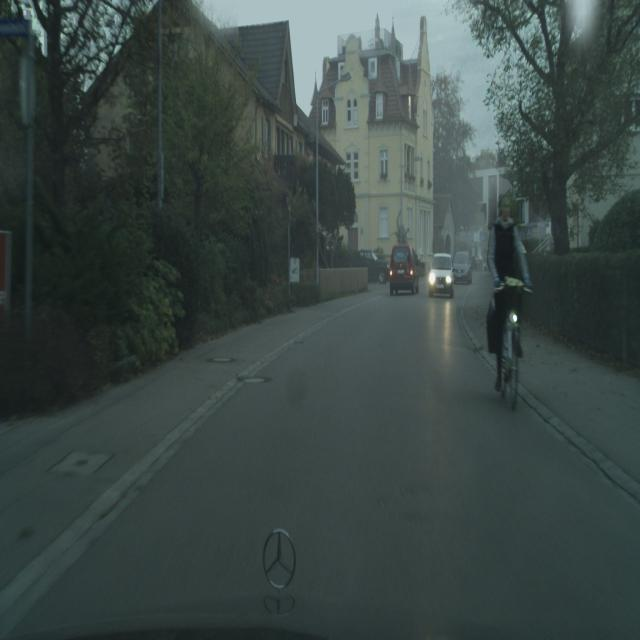person: (389, 244, 419, 296), (428, 252, 455, 298), (358, 249, 390, 284), (452, 251, 472, 284)
truck: (488, 164, 530, 409)
